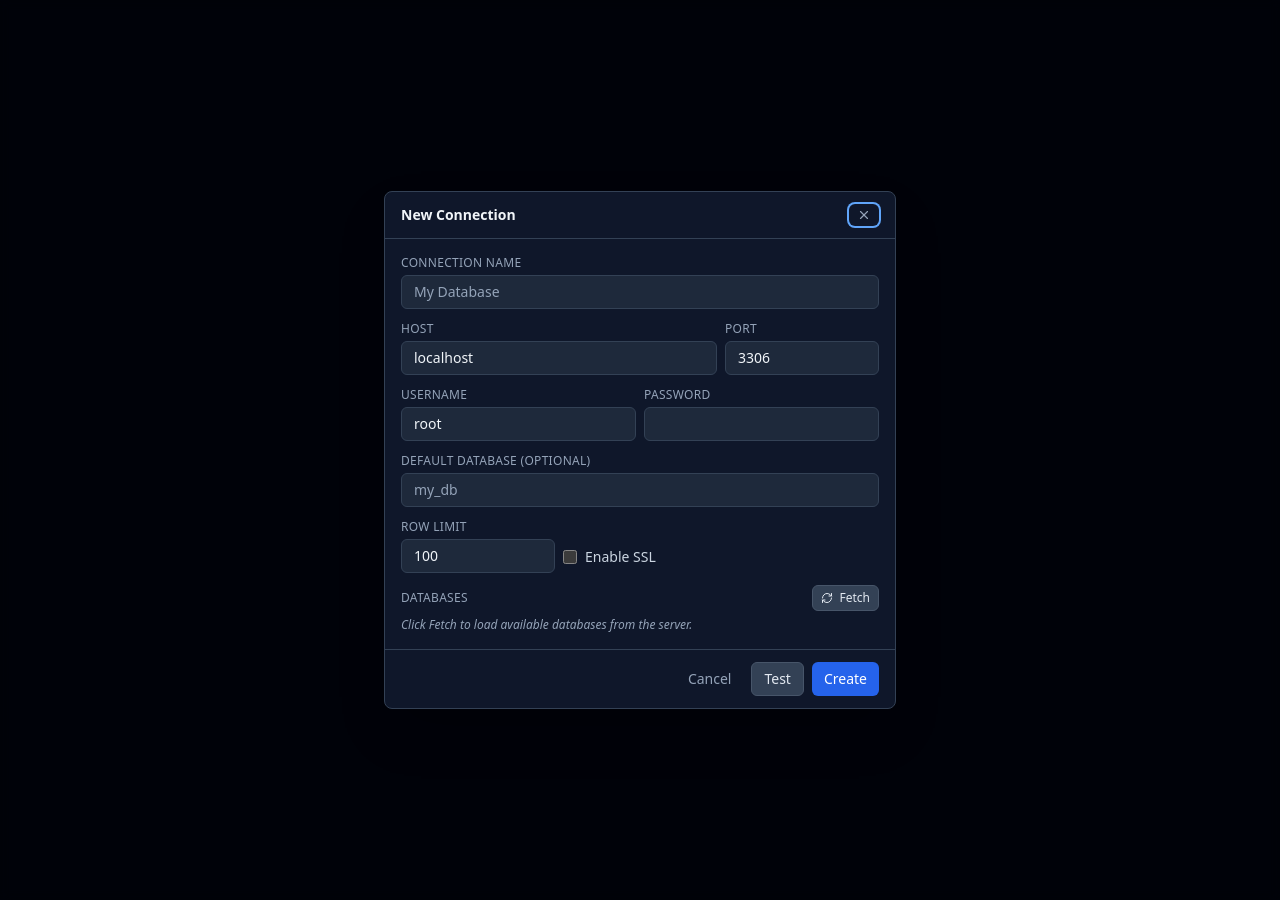
Test: SessionForm › shows error when test connection fails
Click the button "Test". click: click(778, 679)
box: [752,662,804,696]
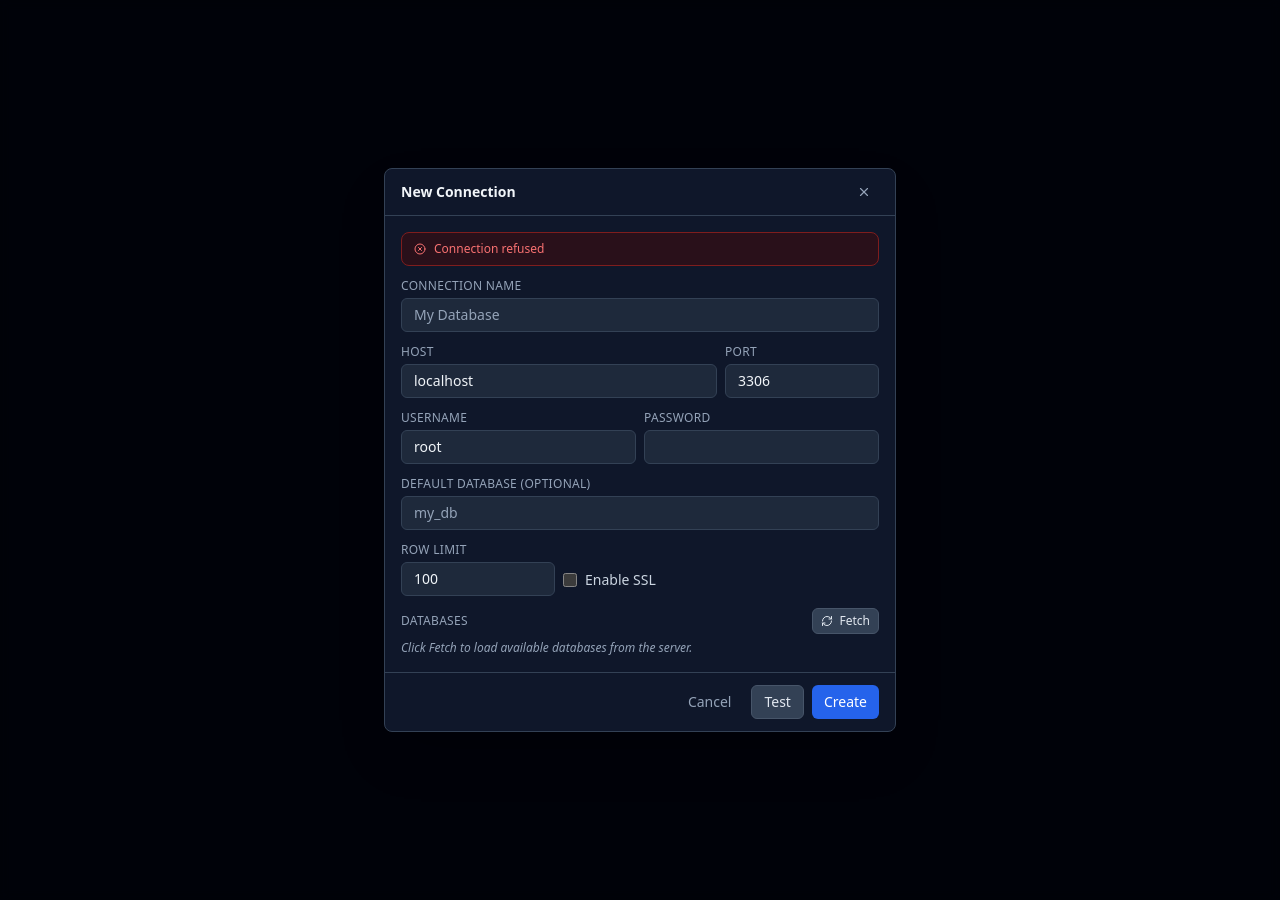
Check: the text "Connection refused" is shown, box [401,232,879,266]
